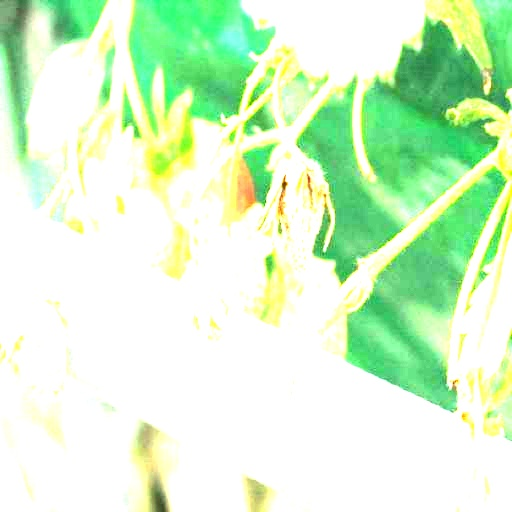Gray Mold: (252, 137, 335, 274)
